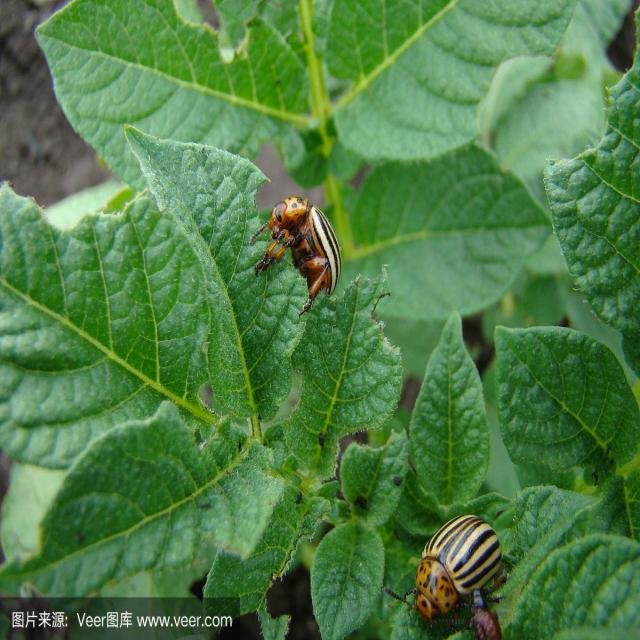ShuCaiHuaBanChong-Grown-: (406, 508, 509, 624), (257, 193, 352, 310)
